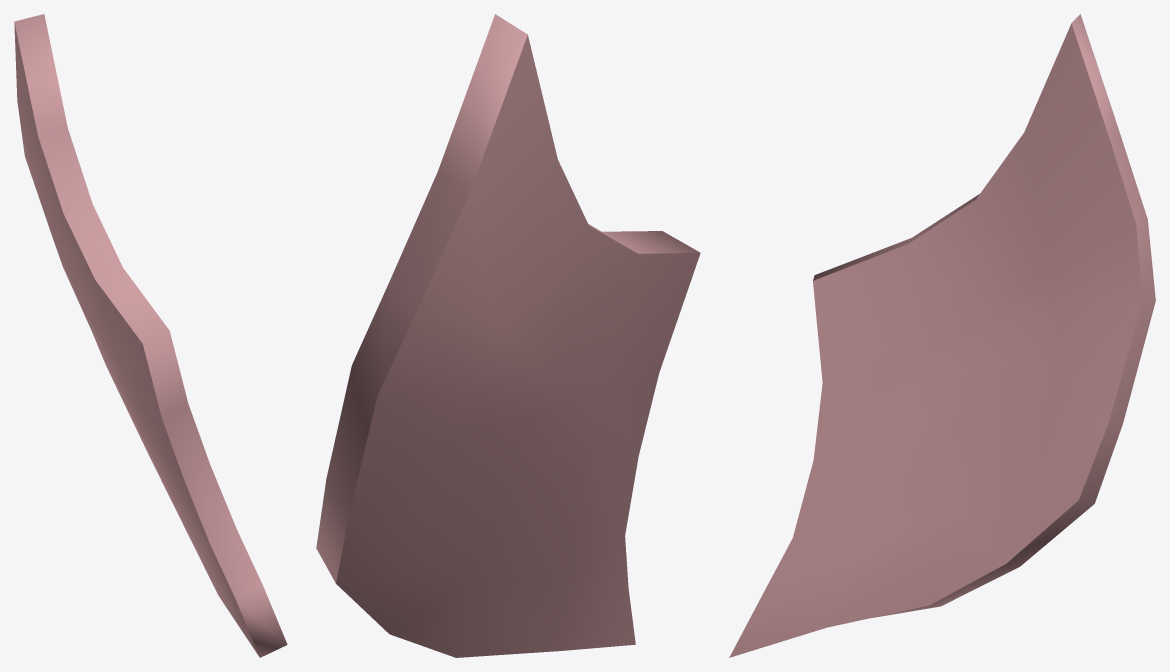
3 renders of one model, left to right at view 1: azimuth 30°, elevation 25°; view 2: azimuth 150°, elevation 25°; view 3: azimuth 270°, elevation 25°, orthographic. The views are drawn at different scales.
Parts seen in each view (by area): view 1: ZA_22c25039cf45ace0; view 2: ZA_22c25039cf45ace0; view 3: ZA_22c25039cf45ace0.
Boxes of the visible parts, x1,y1,x2,y2 form: ZA_22c25039cf45ace0: (14, 14, 287, 657); ZA_22c25039cf45ace0: (316, 14, 700, 657); ZA_22c25039cf45ace0: (729, 14, 1155, 657).
Bounding box in the file's own units: 0.0156 × 0.0577 × 0.0373.
